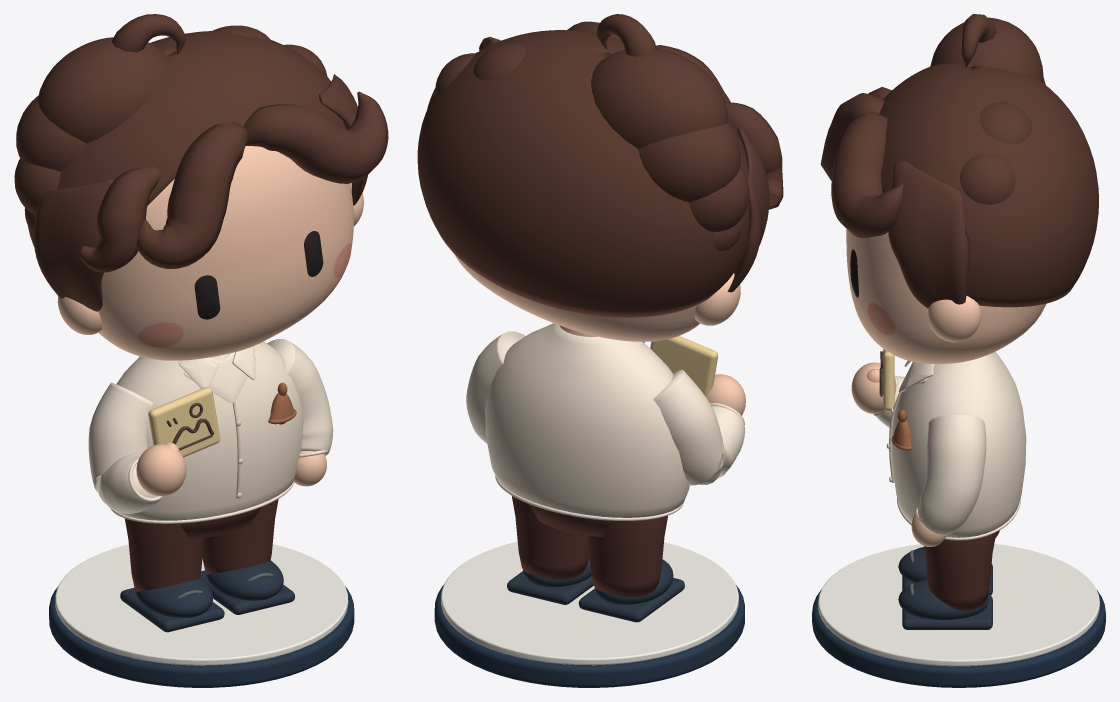
File: designer.glb
The picture shows the model from 3 angles, left to right: view 1: azimuth 30°, elevation 25°; view 2: azimuth 150°, elevation 25°; view 3: azimuth 270°, elevation 25°; orthographic projection. The views are drawn at different scales.
Visible parts, largest first — view 1: designer-root-web; view 2: designer-root-web; view 3: designer-root-web.
Boxes of the visible parts, bbox=[...] form: designer-root-web: bbox=[14, 14, 388, 687]; designer-root-web: bbox=[417, 14, 783, 687]; designer-root-web: bbox=[812, 14, 1105, 687].
Bounding box in the file's own units: 1.52 × 2.73 × 1.23.
